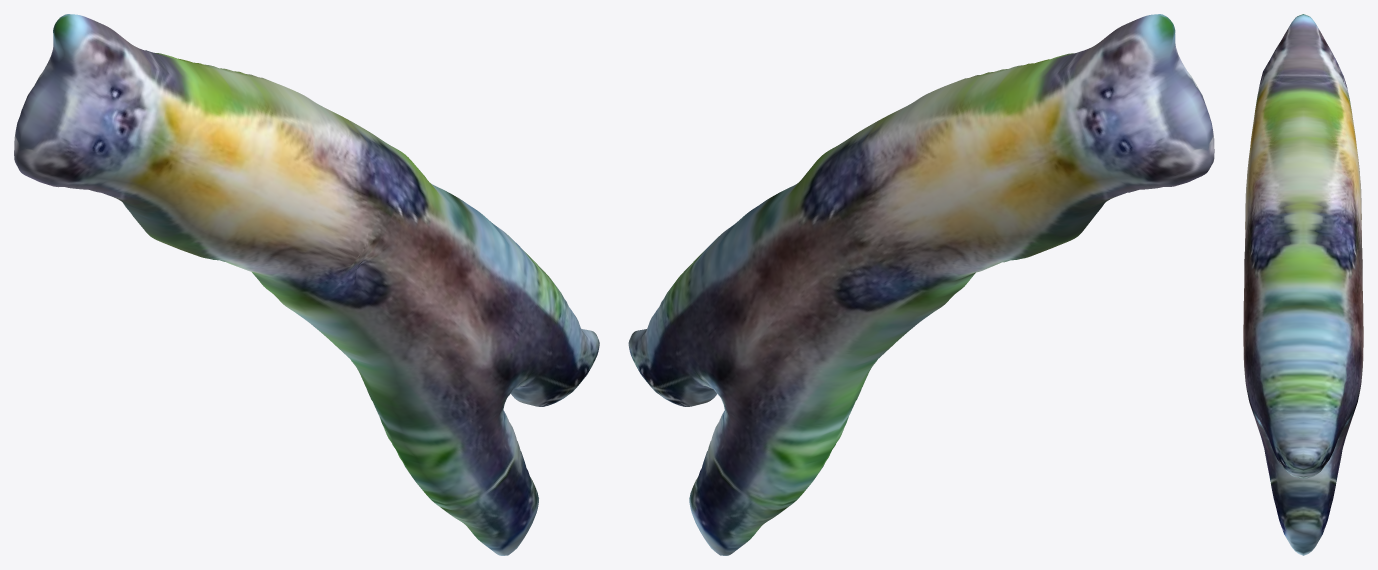
3 renders of one model, left to right at view 1: azimuth 30°, elevation 25°; view 2: azimuth 150°, elevation 25°; view 3: azimuth 270°, elevation 25°, orthographic. The views are drawn at different scales.
Visible parts, largest first — view 1: e9974f97-509c-4809-bdfa-66872bce1d66; view 2: e9974f97-509c-4809-bdfa-66872bce1d66; view 3: e9974f97-509c-4809-bdfa-66872bce1d66.
Boxes of the visible parts, left/top/right/bottom form: e9974f97-509c-4809-bdfa-66872bce1d66: left=14, top=14, right=599, bottom=555; e9974f97-509c-4809-bdfa-66872bce1d66: left=628, top=14, right=1214, bottom=555; e9974f97-509c-4809-bdfa-66872bce1d66: left=1243, top=14, right=1363, bottom=555.
Bounding box in the file's own units: 4.23 × 4.51 × 1.2.
1 material, 1 textured.
